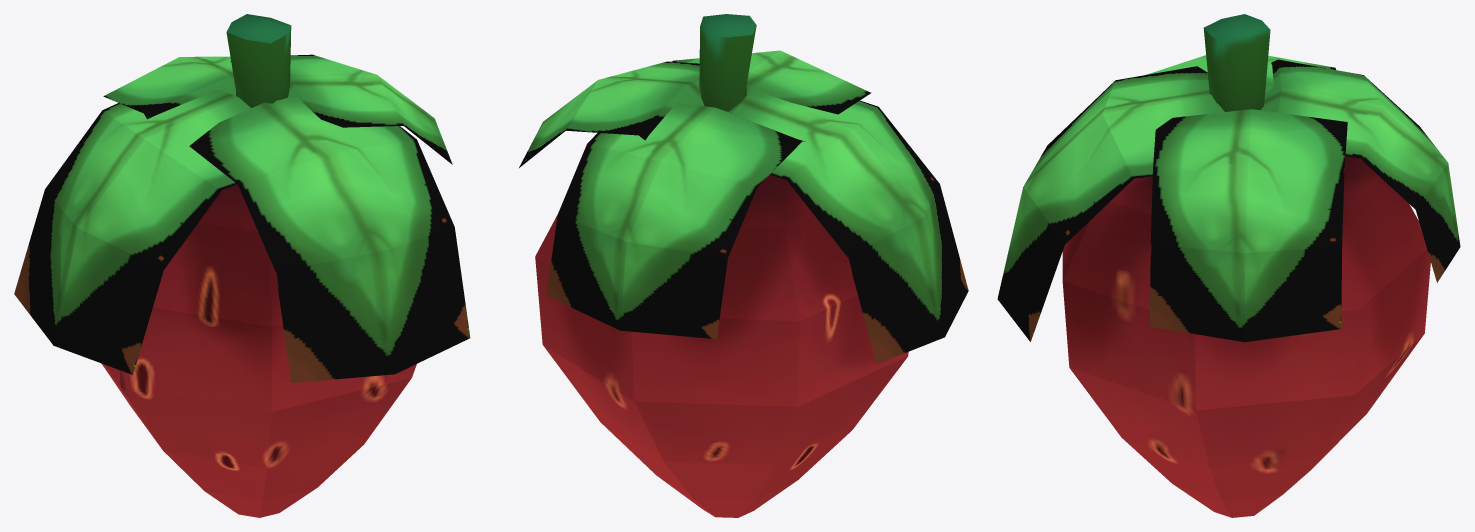
Rendered from strawberry.gltf.
The picture shows the model from 3 angles, left to right: view 1: azimuth 30°, elevation 25°; view 2: azimuth 150°, elevation 25°; view 3: azimuth 270°, elevation 25°; orthographic projection.
Visible parts, largest first — view 1: StrawberryMesh; view 2: StrawberryMesh; view 3: StrawberryMesh.
Boxes of the visible parts, x1,y1,x2,y2 form: StrawberryMesh: (14, 14, 470, 517); StrawberryMesh: (519, 14, 968, 517); StrawberryMesh: (997, 14, 1460, 517).
Size of the model in its own units: 1.12 by 1.28 by 1.12.
1 material, 1 textured.
